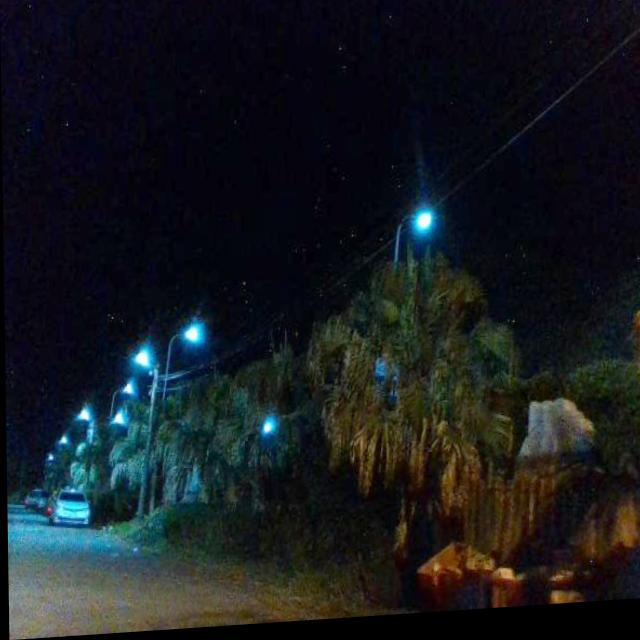pollute: (407, 403, 640, 619)
